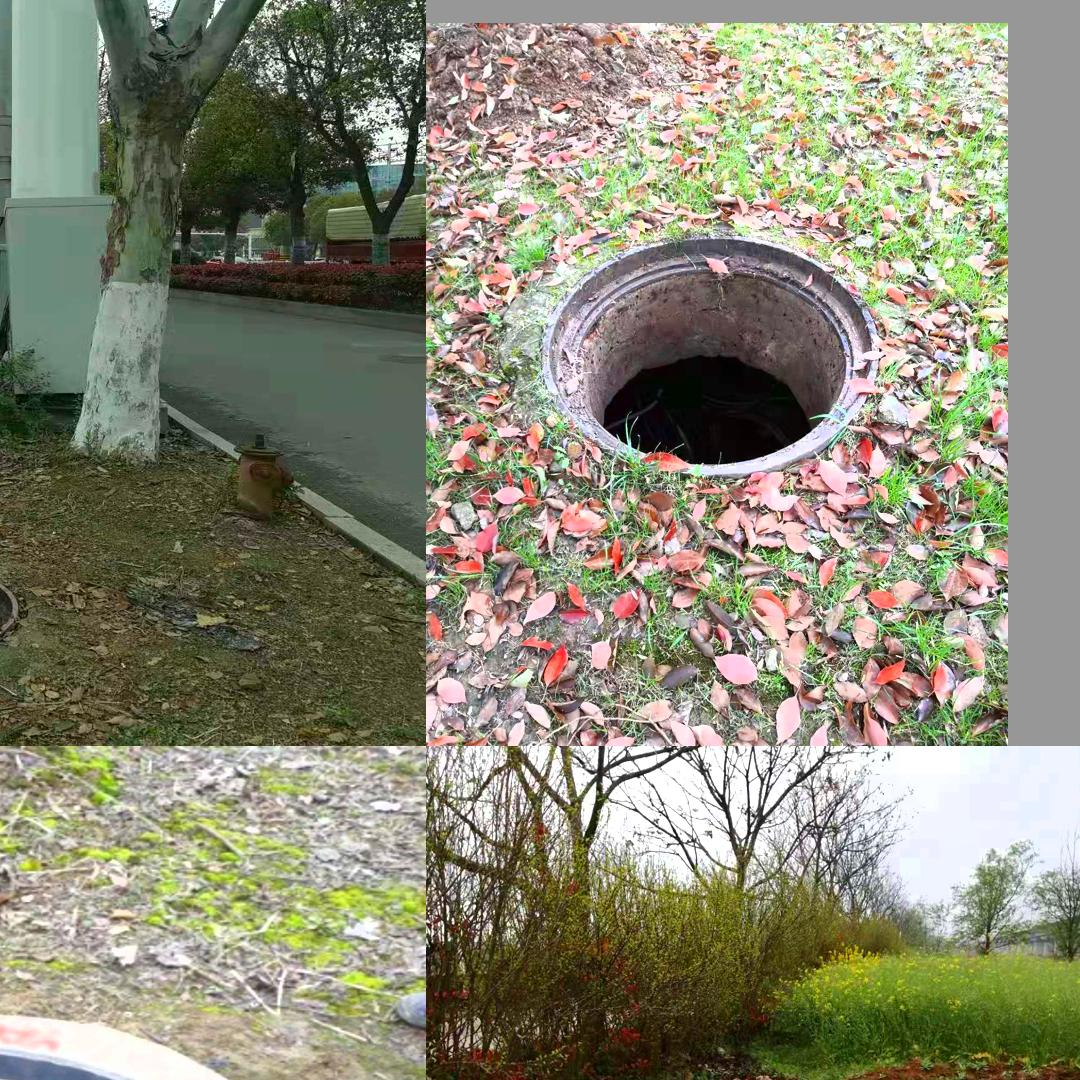lose: (542, 235, 880, 478), (0, 1042, 262, 1080), (0, 560, 18, 663)
